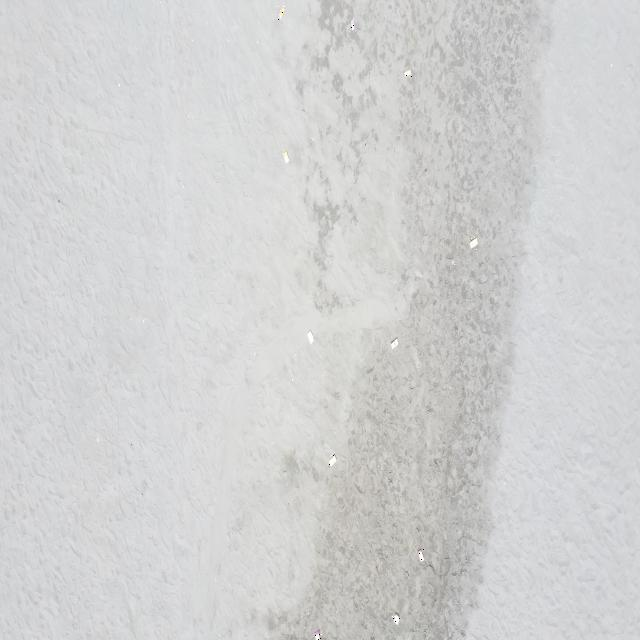Garbage: (468, 236, 477, 247), (328, 453, 335, 466), (417, 548, 423, 562), (281, 150, 287, 163), (313, 628, 320, 639), (392, 613, 399, 624), (391, 336, 397, 348), (278, 5, 283, 19), (404, 68, 411, 76), (307, 331, 311, 344), (350, 20, 355, 30)
